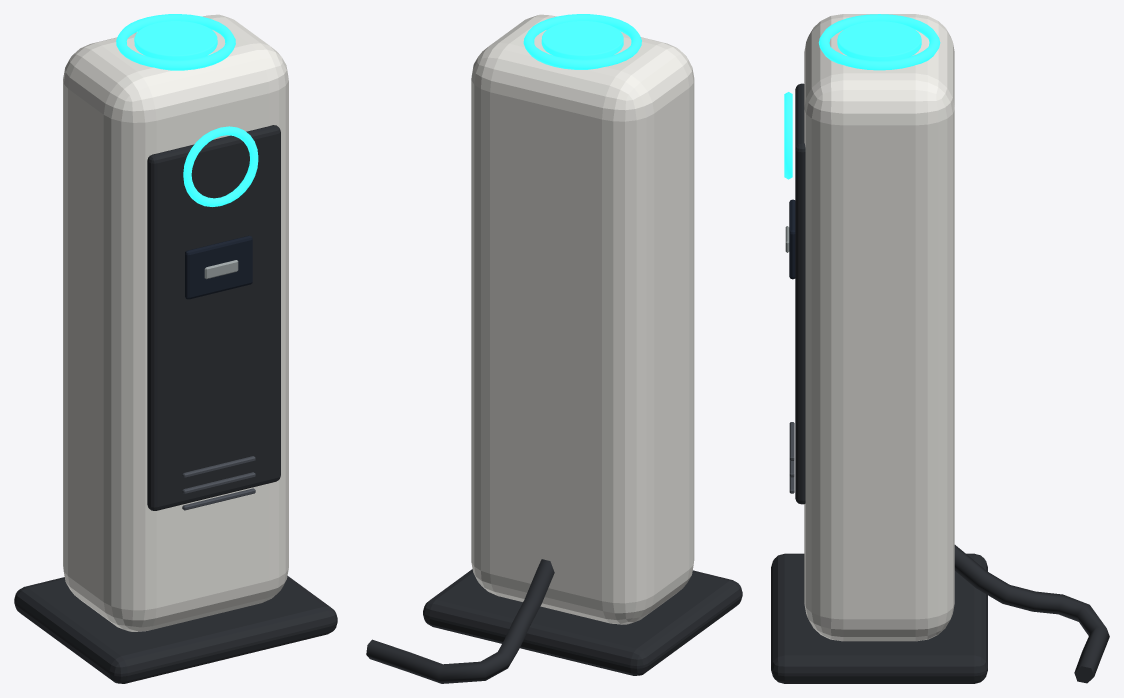
The model's file is net_access_point.glb.
3 views of the same model, side by side, from view 1: azimuth 30°, elevation 25°; view 2: azimuth 150°, elevation 25°; view 3: azimuth 270°, elevation 25° (orthographic). The views are drawn at different scales.
Visible parts, largest first — view 1: net_access_point_mesh; view 2: net_access_point_mesh; view 3: net_access_point_mesh.
Boxes of the visible parts, x1=… form: net_access_point_mesh: x1=14, y1=14, x2=337, y2=683; net_access_point_mesh: x1=366, y1=14, x2=742, y2=683; net_access_point_mesh: x1=771, y1=14, x2=1109, y2=683.
Bounding box in the file's own units: 0.4407 × 1.09 × 0.5624.
